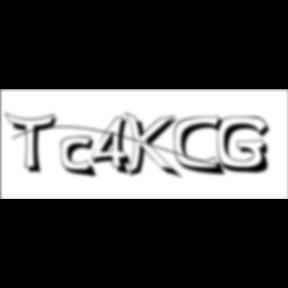4: (90, 115, 138, 179)
C: (174, 115, 230, 178)
G: (217, 116, 276, 176)
K: (125, 110, 184, 182)
T: (5, 112, 63, 176)
c: (61, 136, 101, 180)
